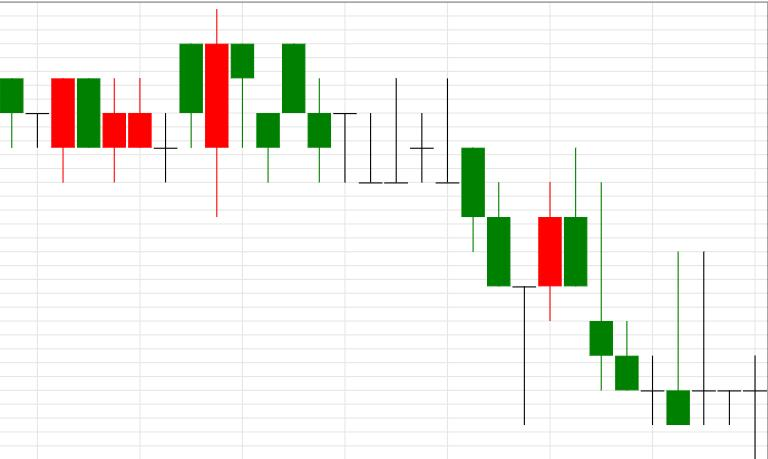morning_star_rise: (410, 79, 562, 425)
